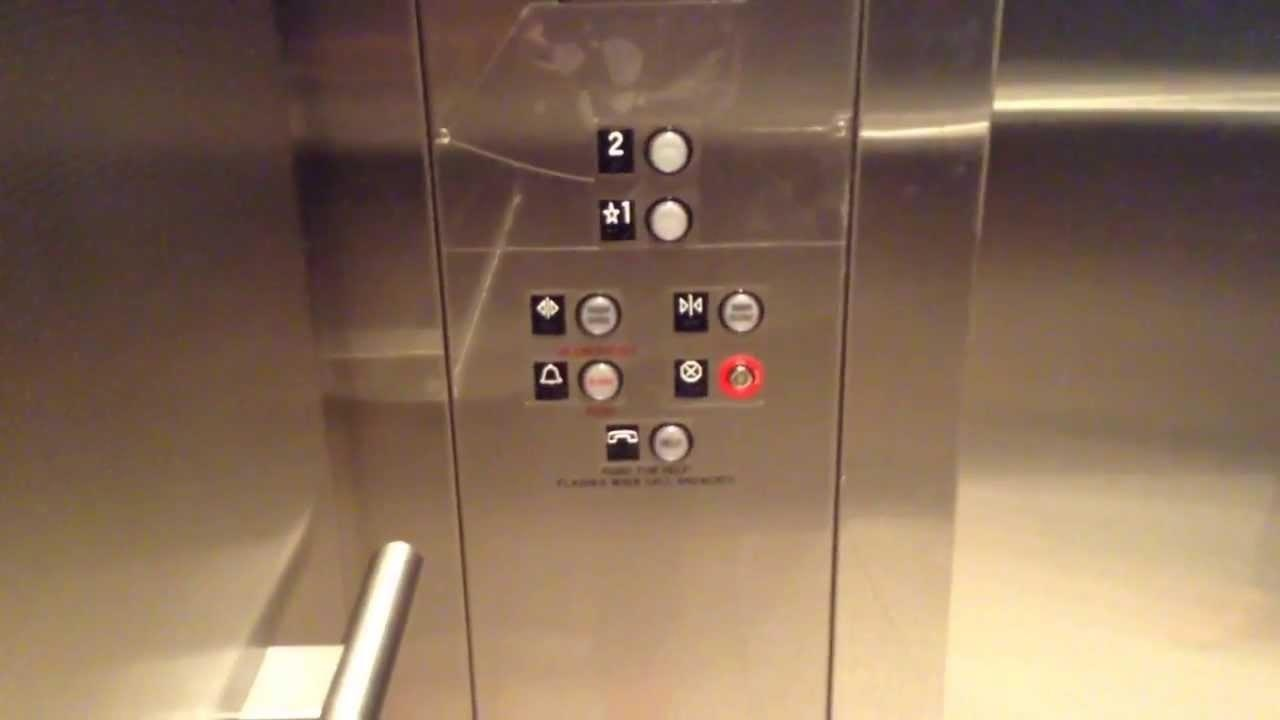2: (594, 124, 635, 172)
alarm: (531, 357, 572, 403)
call: (603, 421, 641, 462)
close: (671, 288, 710, 334)
empty: (645, 196, 693, 243), (645, 127, 691, 174)
keyhole: (718, 353, 765, 400)
open: (530, 293, 567, 335)
s1: (596, 196, 637, 243)
stop: (672, 355, 711, 399)
text_blur: (574, 289, 622, 338), (716, 289, 765, 335), (578, 358, 624, 404), (648, 422, 694, 463)
